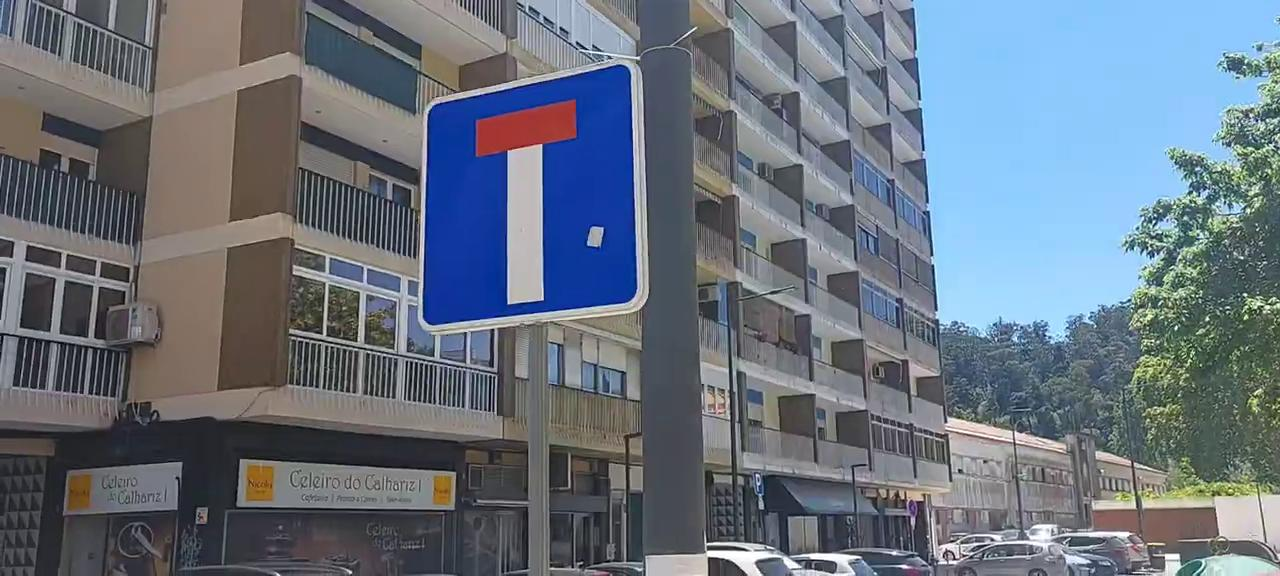via publica sem saida: (410, 63, 651, 336)
